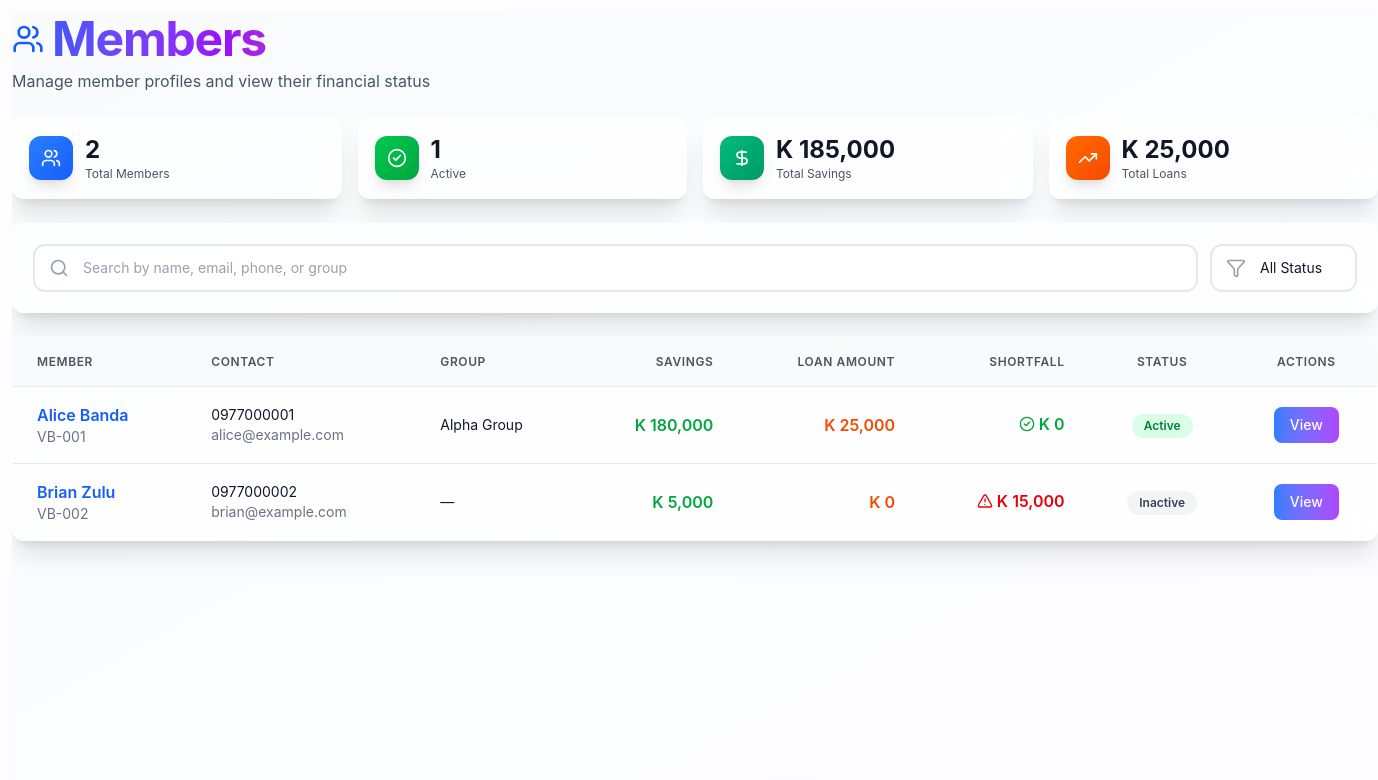
Test case: Members page › filters members by search query
The width and height of the screenshot is (1378, 780).
Type "Alice" into the field with placeholder "Search by name, email, phone, or group" at (616, 268), box [33,244,1198,292]
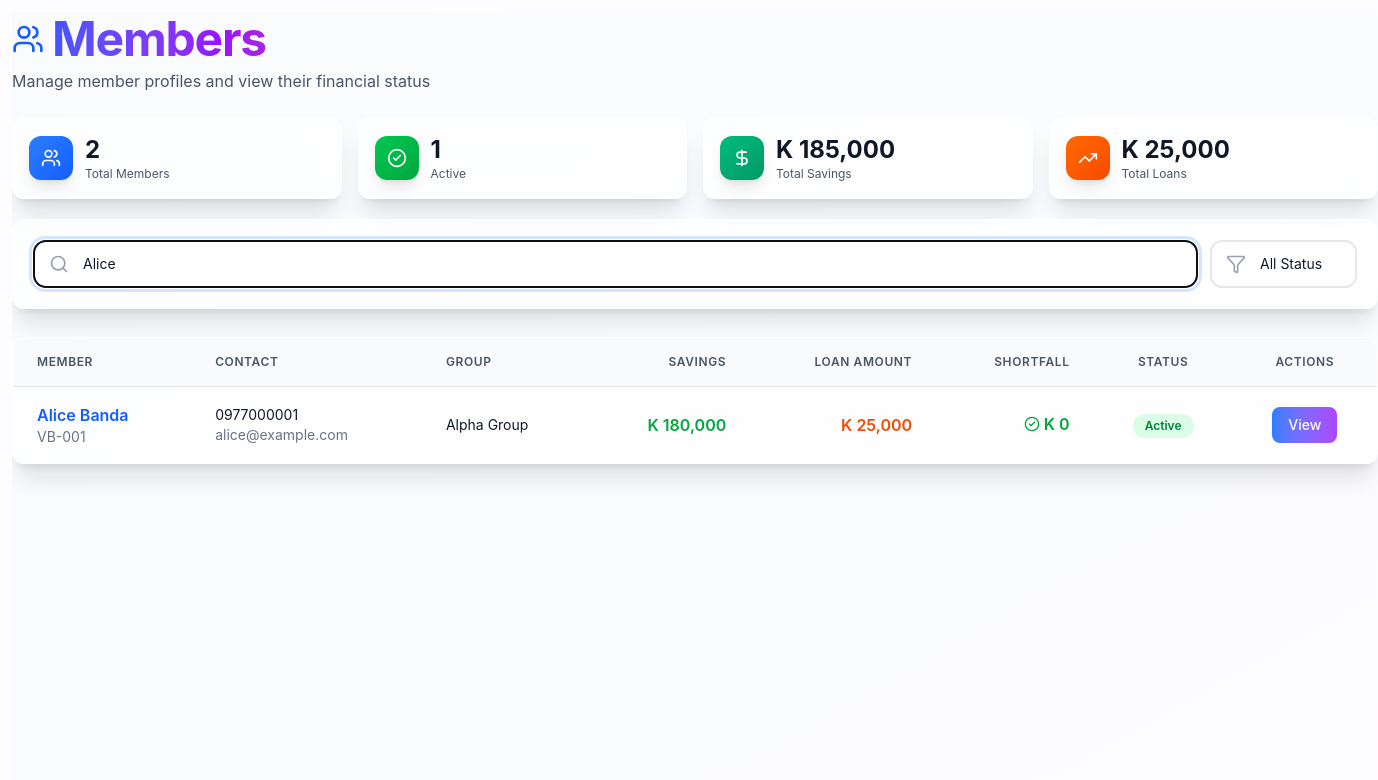
Now no links "Brian Zulu" are shown
